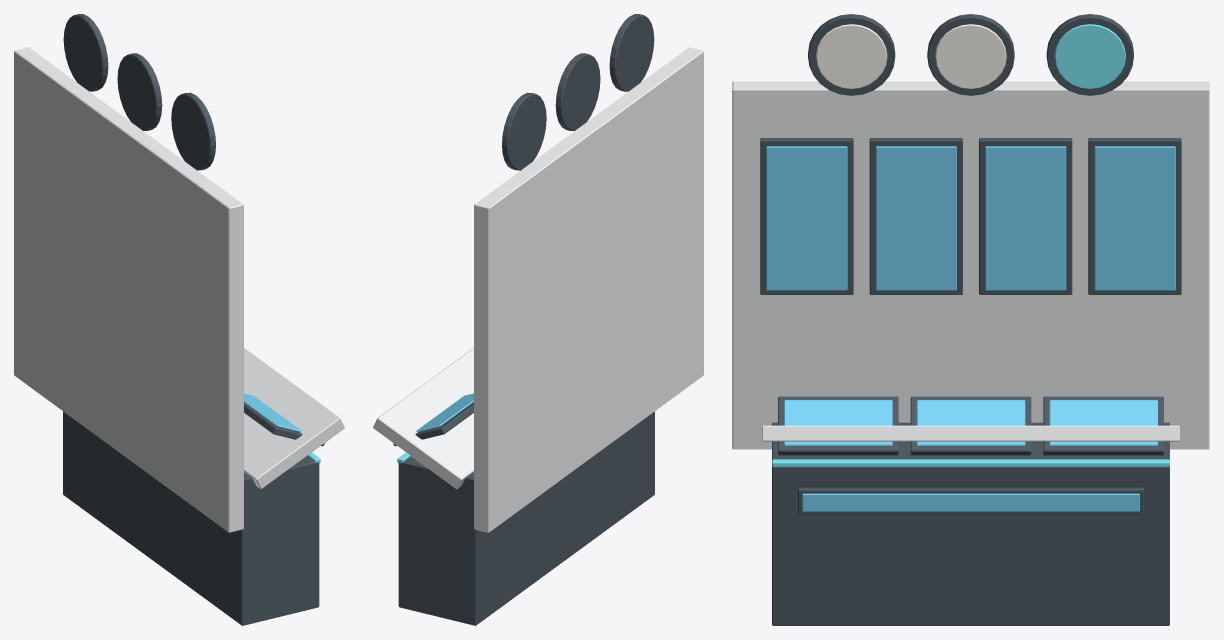
The model's file is SM_Console_Engineering.fbx.
3 views of the same model, side by side, from view 1: azimuth 30°, elevation 25°; view 2: azimuth 150°, elevation 25°; view 3: azimuth 270°, elevation 25° (orthographic). The views are drawn at different scales.
Visible parts, largest first — view 1: SM_Console_Engineering; view 2: SM_Console_Engineering; view 3: SM_Console_Engineering.
Part boxes in pixels (box(x1,y1,x2,y2)): SM_Console_Engineering: box(14, 14, 344, 625); SM_Console_Engineering: box(373, 14, 703, 625); SM_Console_Engineering: box(732, 14, 1209, 625).
Size of the model in its own units: 83.67 by 312 by 240.
